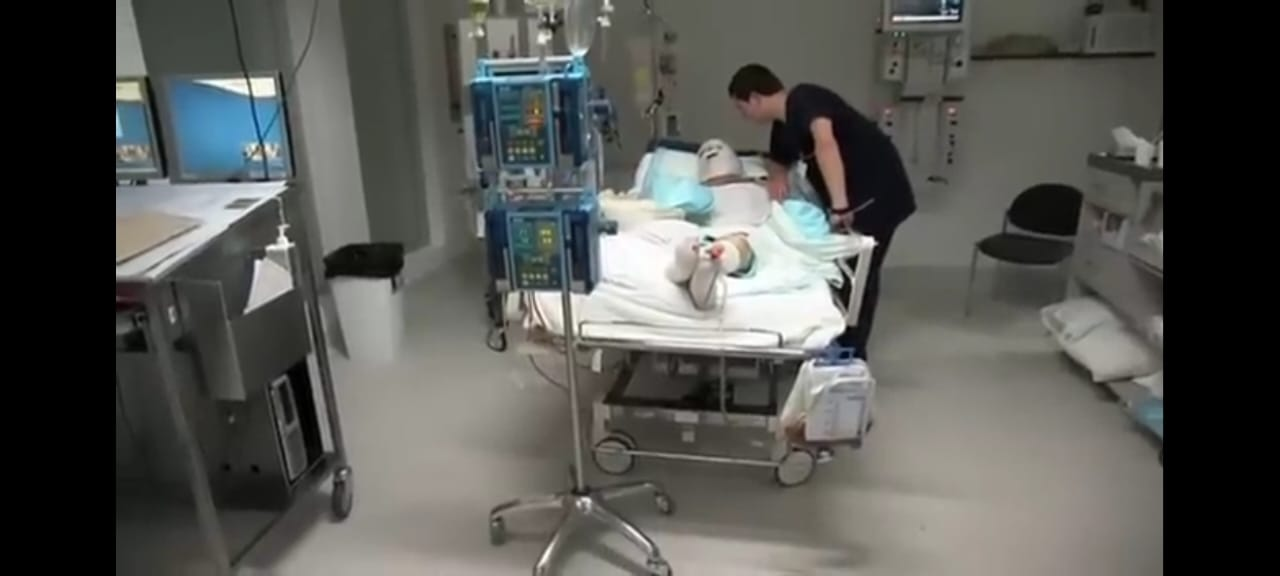doctor: (723, 59, 919, 361)
patient: (652, 136, 776, 328)
